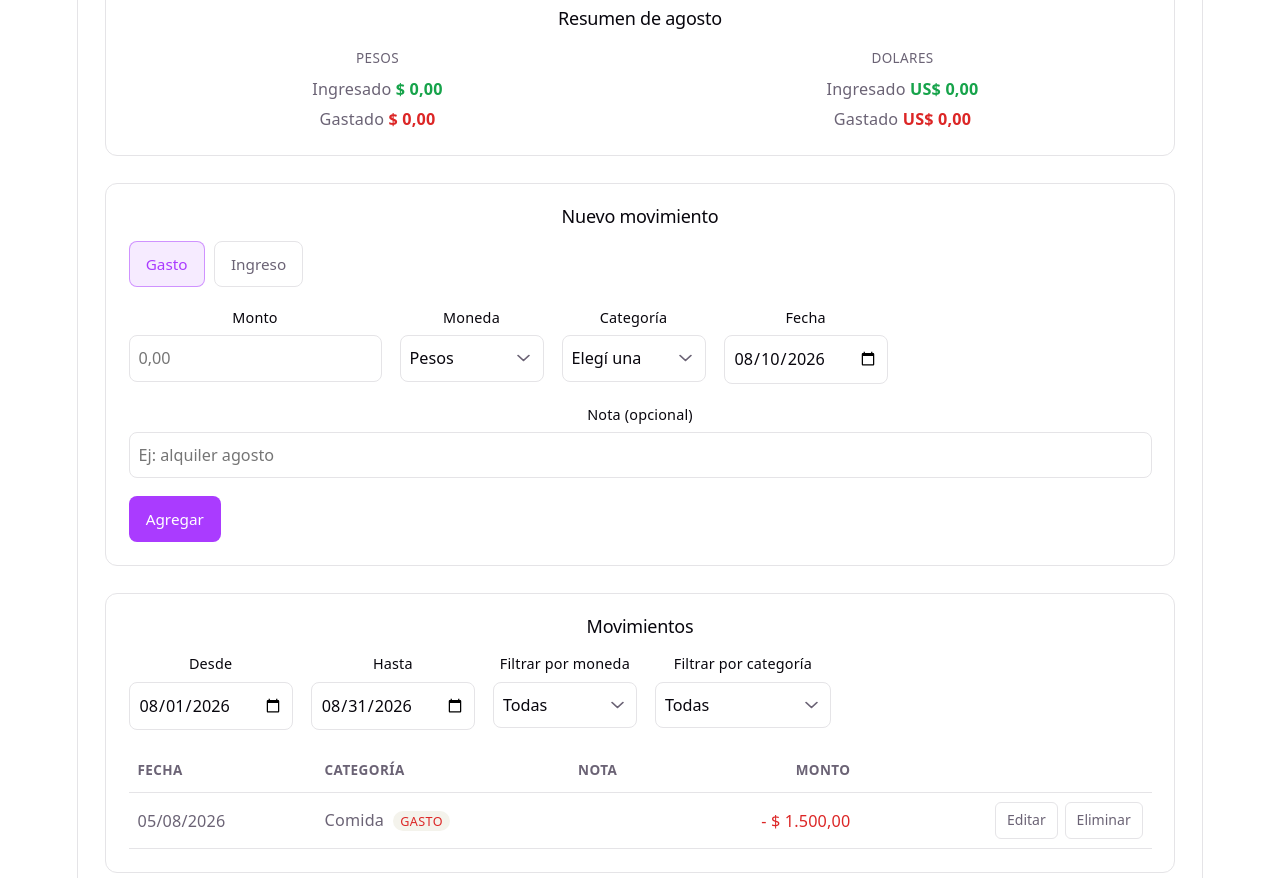
it: edición en un modal sobre la pantalla › el modal se cierra con Cancelar y con Cerrar
This screenshot has width=1280, height=878.
(page scrolled)
Expected: the heading "Nuevo movimiento" is shown, [562,204,718,228]
Click the button "Editar" at (1026, 820), box [995,802,1058,839]
(page scrolled)
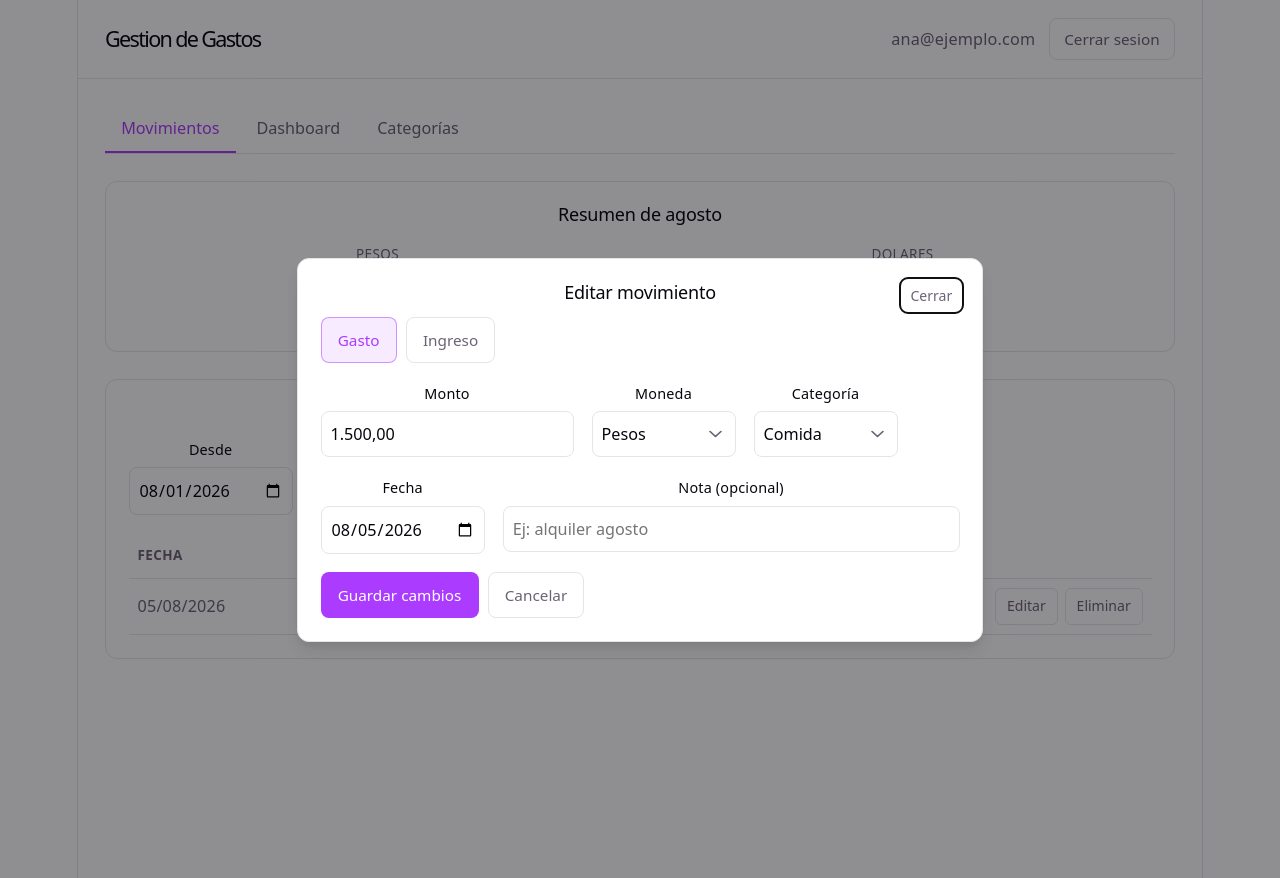
Click the button "Cancelar" at (536, 595), box [488,572,584,618]
(page scrolled)
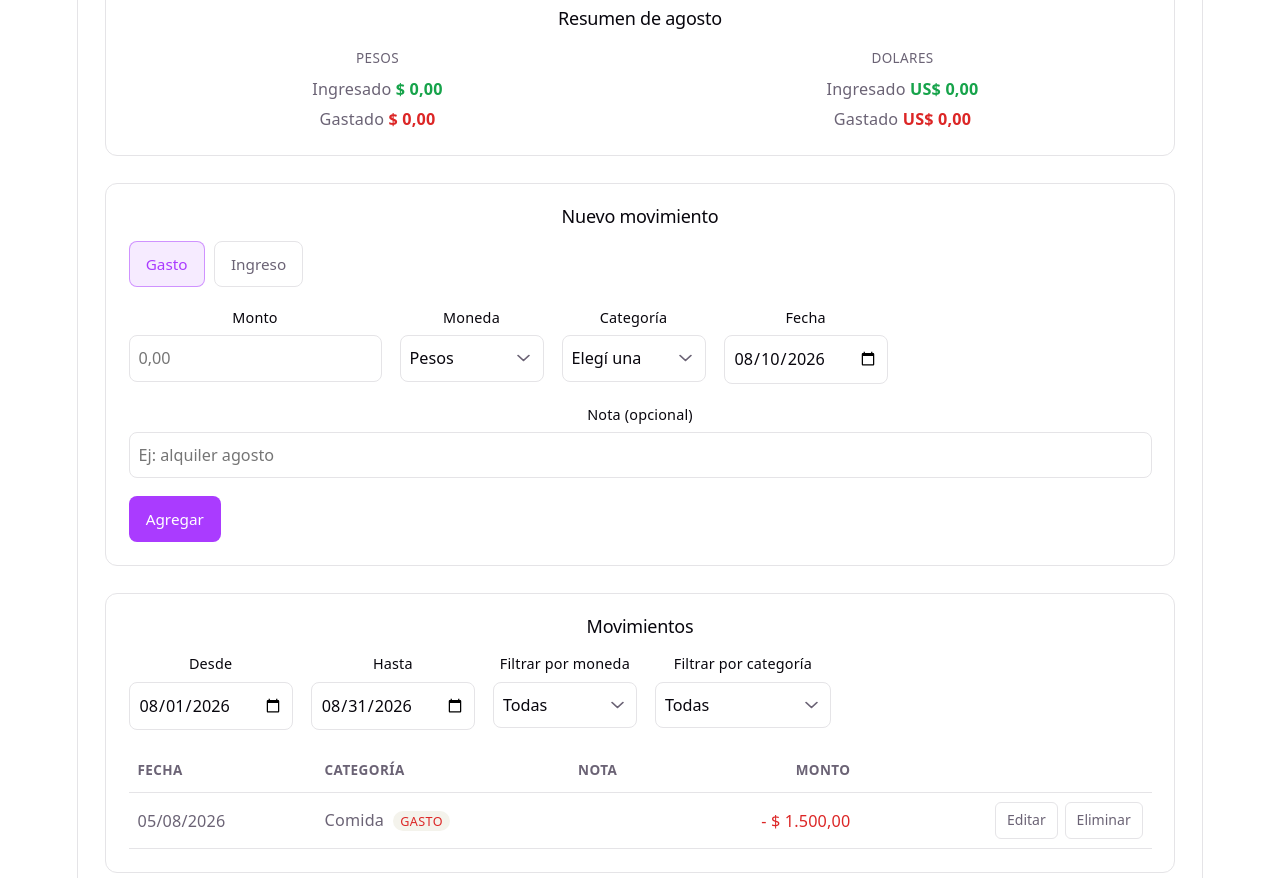
Now the dialog is gone
Click the button "Editar" at (1026, 820), box [995,802,1058,839]
(page scrolled)
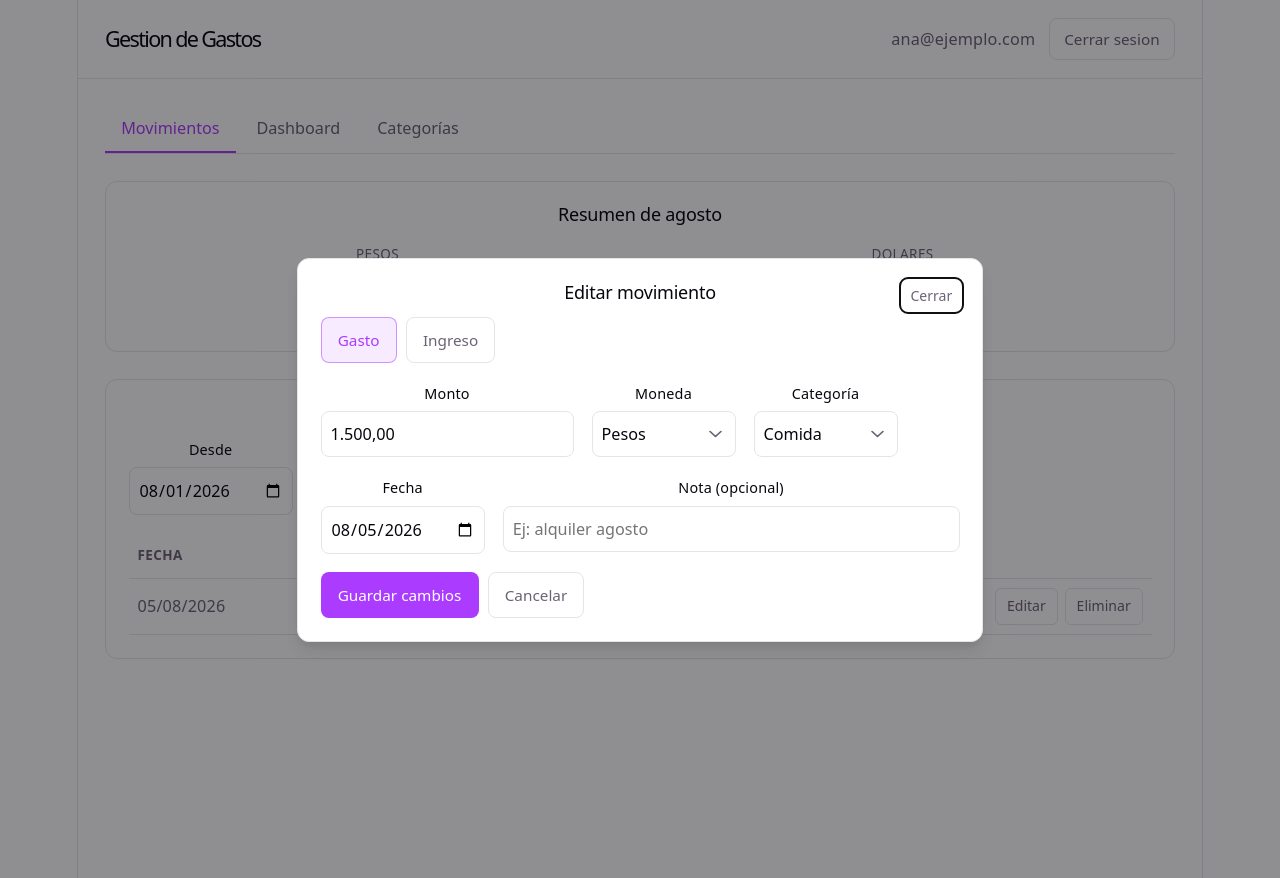
Click the button "Cerrar" at (931, 296), box [899,277,964,314]
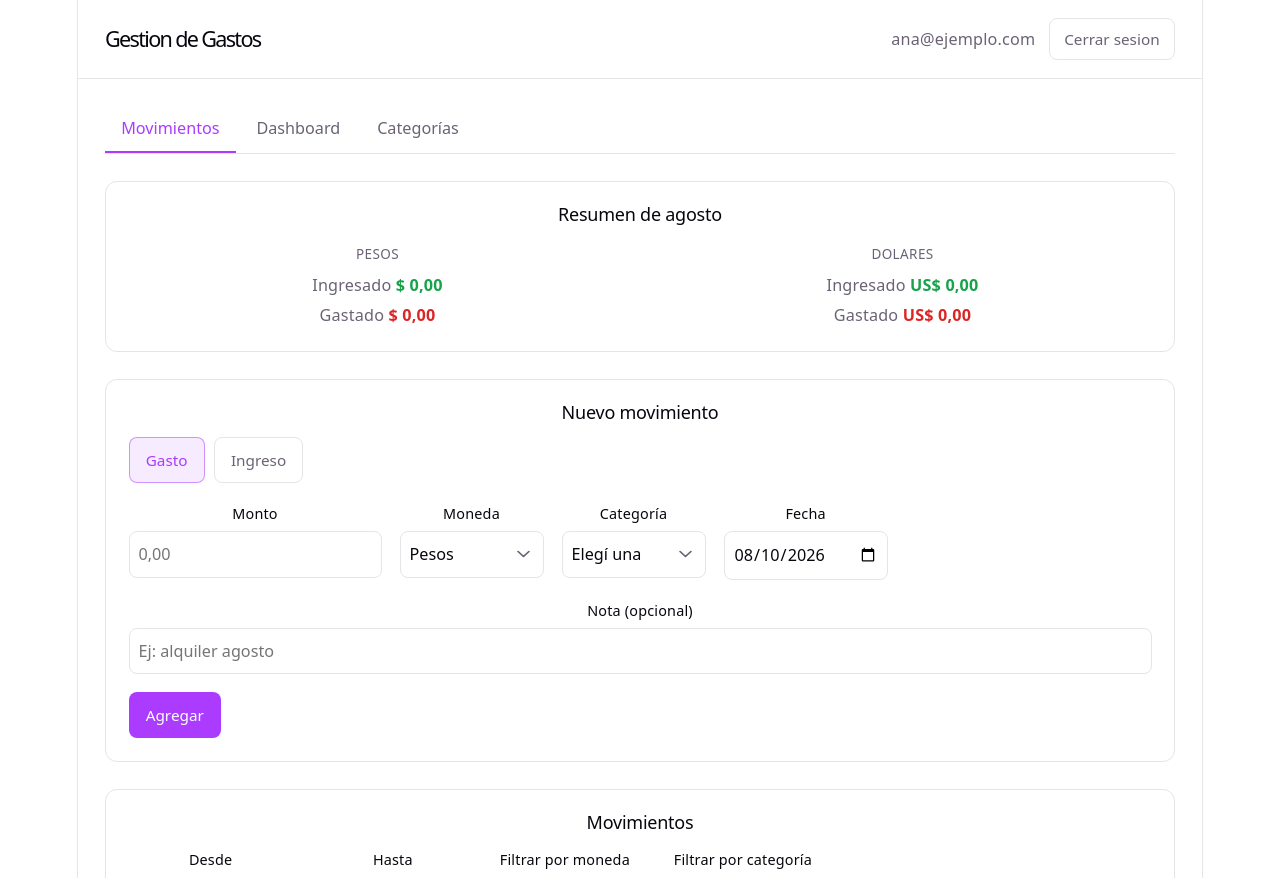
Now the dialog is gone
